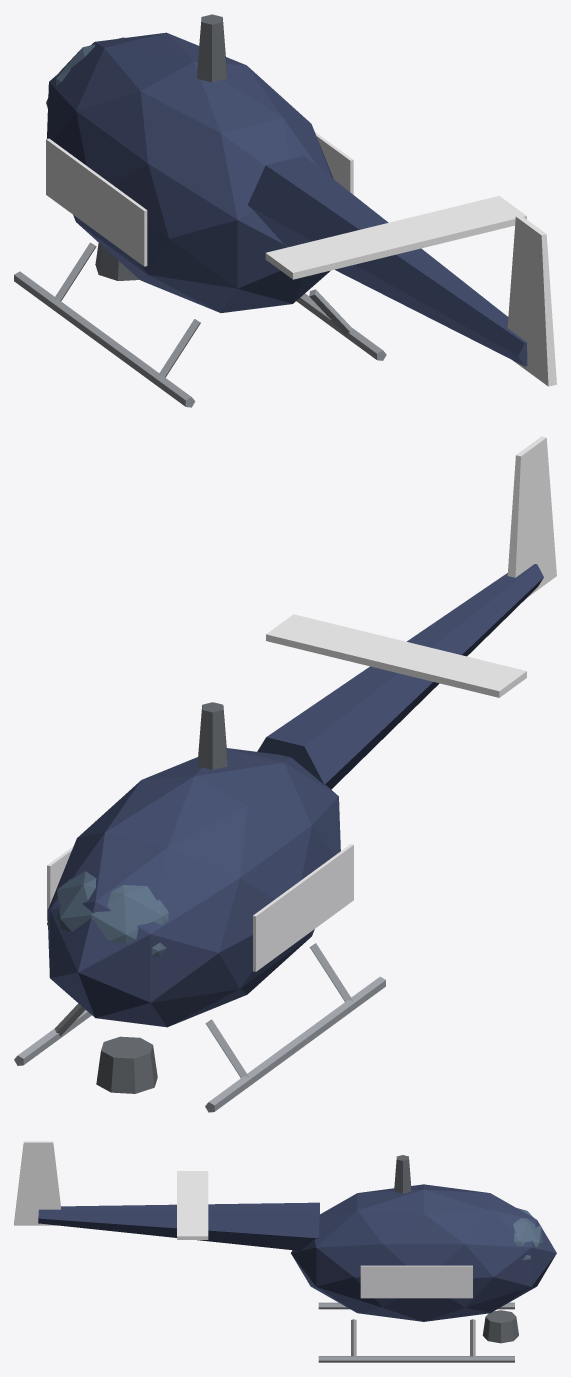
The model's file is Helicopter.obj.
3 renders of one model, top to bottom at view 1: azimuth 30°, elevation 25°; view 2: azimuth 150°, elevation 25°; view 3: azimuth 270°, elevation 25°, orthographic. The views are drawn at different scales.
Parts seen in each view (by area): view 1: Helicopter; view 2: Helicopter; view 3: Helicopter.
Boxes of the visible parts, x1,y1,x2,y2 form: Helicopter: (14, 14, 556, 407); Helicopter: (14, 436, 556, 1112); Helicopter: (14, 1141, 556, 1362).
Size of the model in its own units: 2.2 by 3.05 by 7.75.
1 material, 1 textured.
